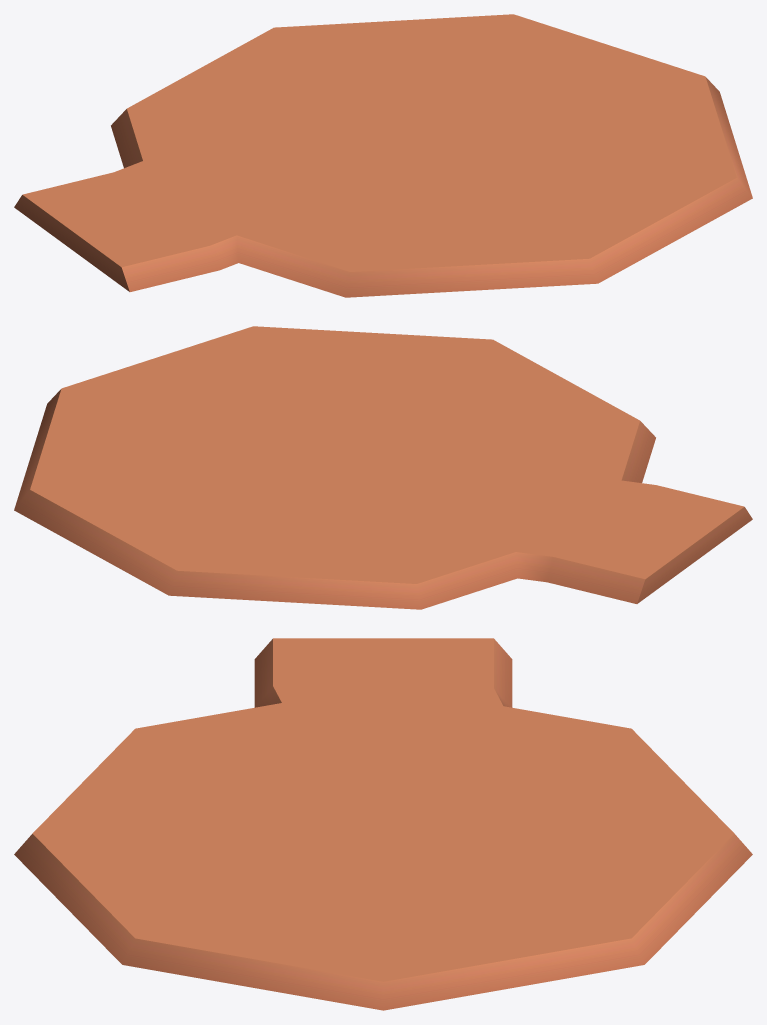
The model's file is kenney-hexagon-path-square-end.glb.
The picture shows the model from 3 angles, top to bottom: view 1: azimuth 30°, elevation 25°; view 2: azimuth 150°, elevation 25°; view 3: azimuth 270°, elevation 25°; orthographic projection. The views are drawn at different scales.
Parts seen in each view (by area): view 1: path_square_end; view 2: path_square_end; view 3: path_square_end.
Boxes of the visible parts, x1,y1,x2,y2 form: path_square_end: (14, 14, 752, 297); path_square_end: (14, 326, 752, 609); path_square_end: (14, 638, 752, 1010).
Bounding box in the file's own units: 0.9 × 0.025 × 0.8.
1 material, 1 textured.
